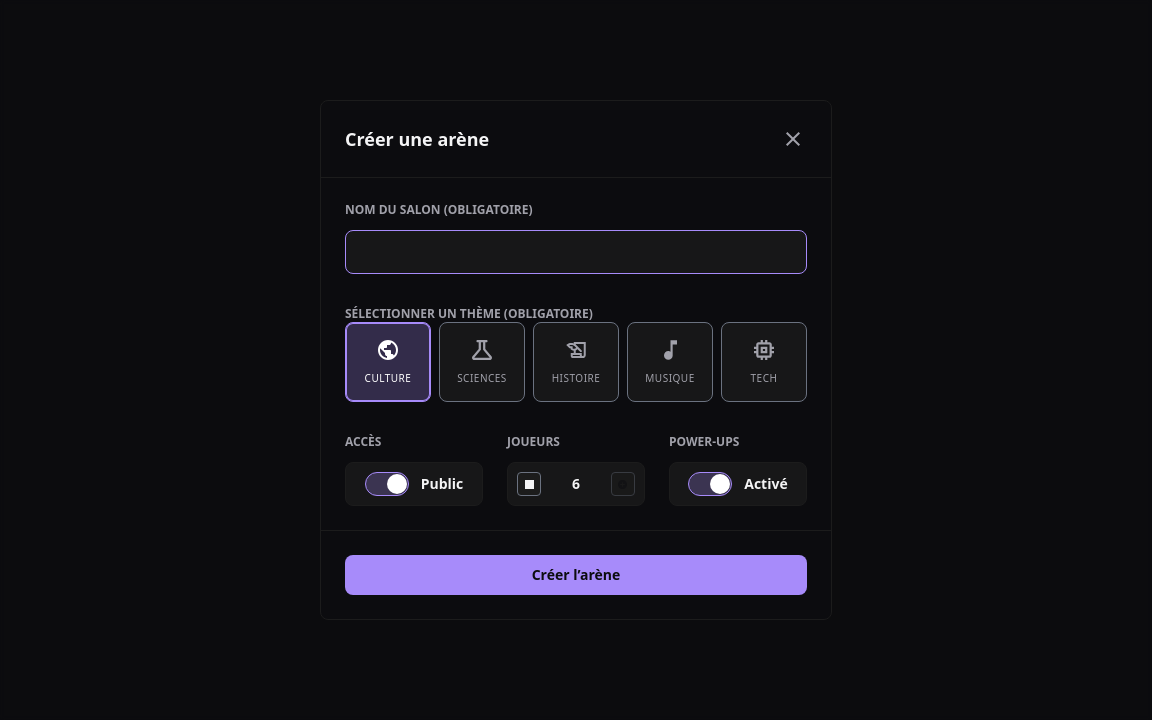
Test: CreateLobbyModal — formulaire accessible › bascule l’accès public/privé au clic, état doublé d’un texte
This screenshot has width=1152, height=720.
Click the switch labelled "Public": (414, 484) [365,472,463,496]
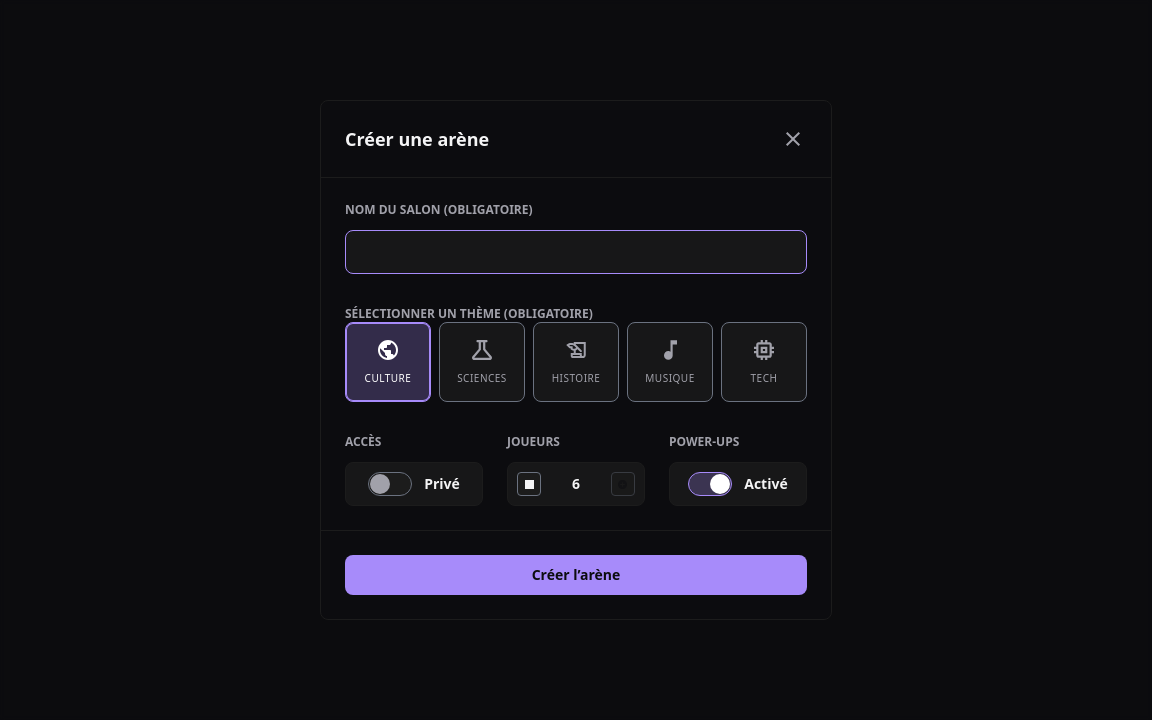
Expected: the text with id "lobby-access-state" reads "Privé", [424,474,460,493]
